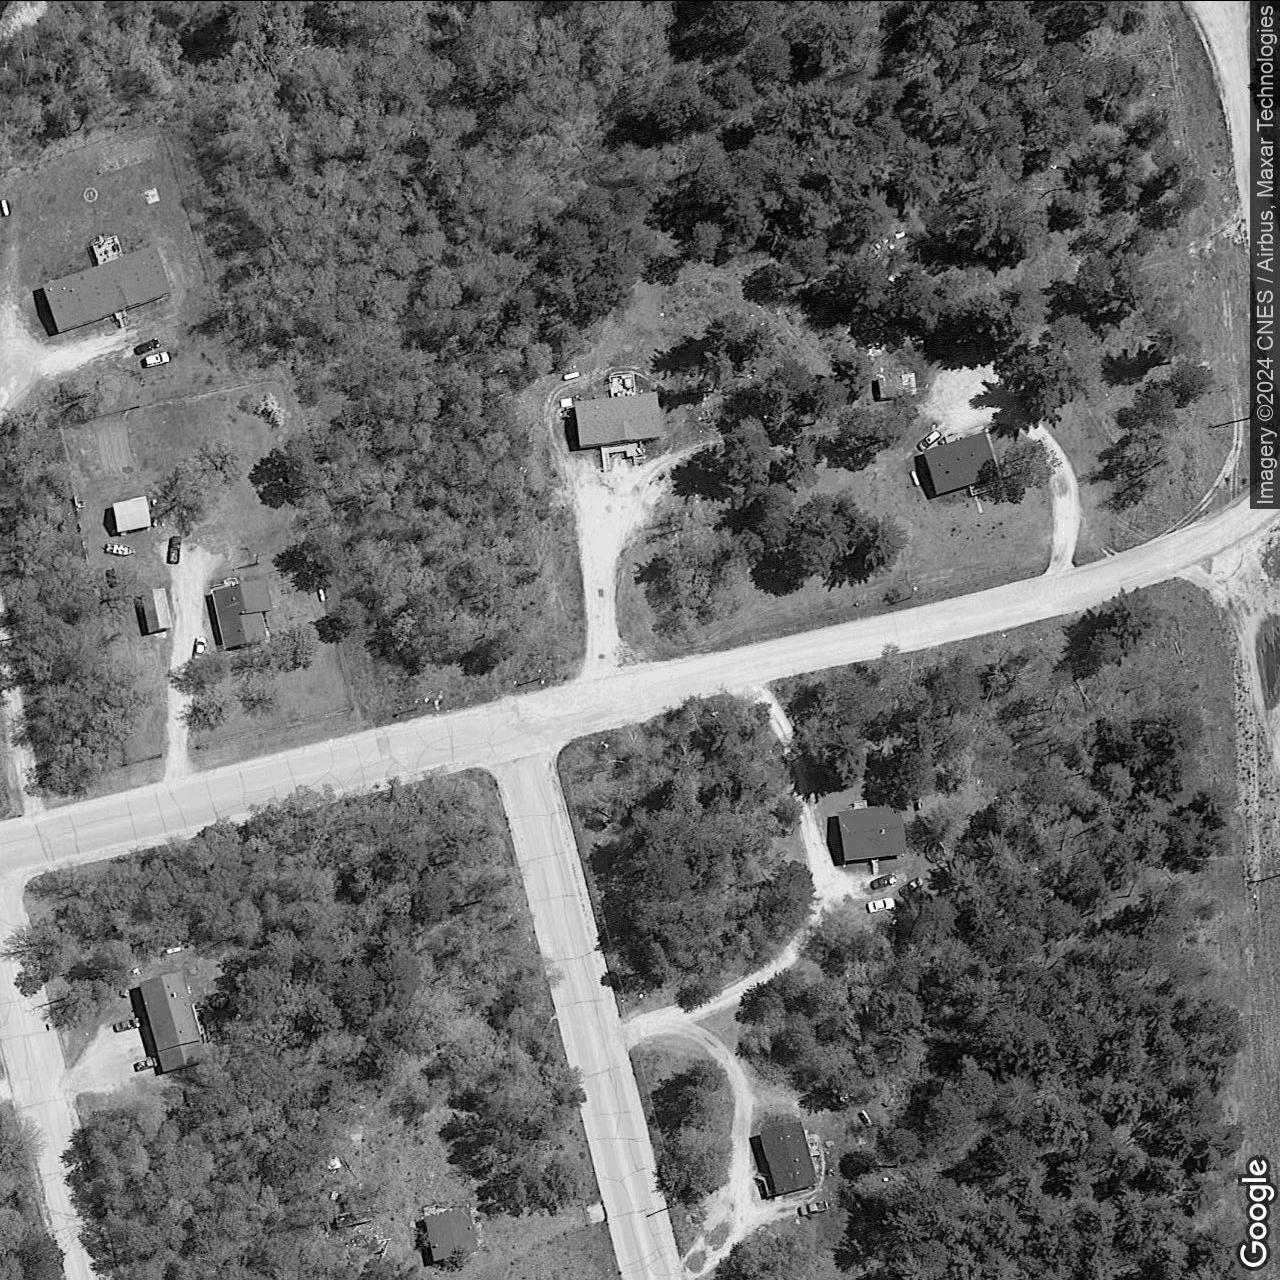Garage: (139, 585, 173, 634), (111, 493, 152, 532)
House: (40, 243, 172, 333), (136, 968, 210, 1074), (571, 388, 662, 448), (921, 430, 1000, 495), (209, 576, 274, 649), (757, 1118, 817, 1197), (837, 802, 910, 859), (423, 1208, 479, 1262)
Propane: (907, 467, 921, 488), (560, 369, 581, 381), (0, 197, 12, 217), (164, 944, 184, 954), (315, 585, 327, 602)
